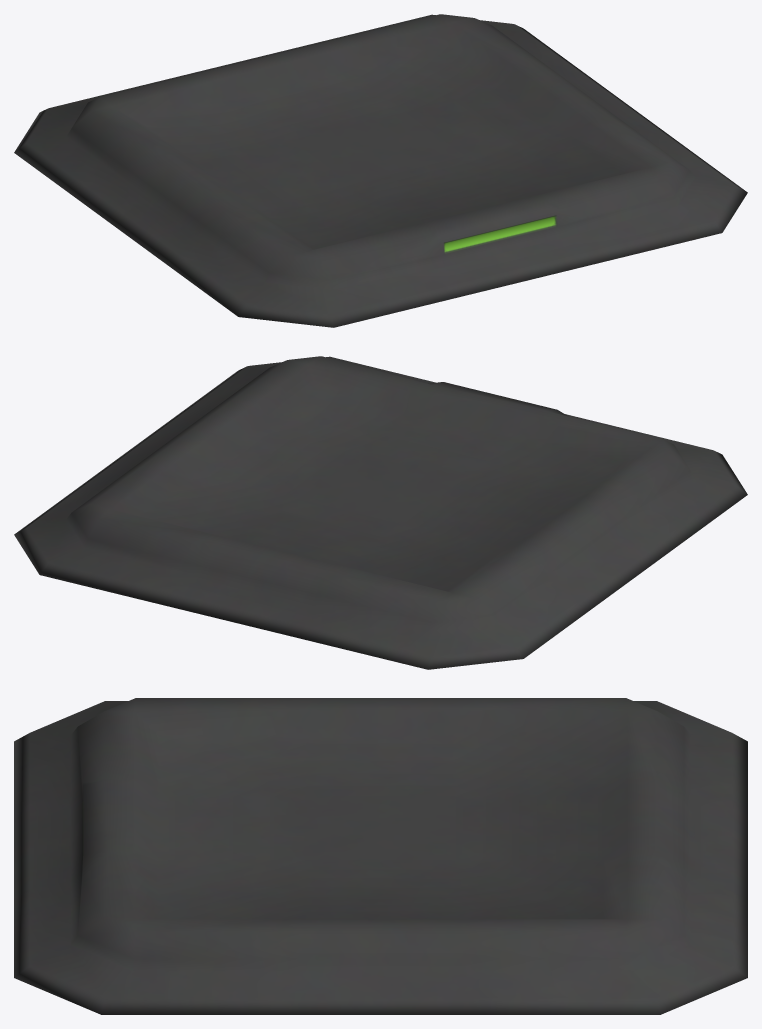
File: Button_active.gltf
3 renders of one model, top to bottom at view 1: azimuth 30°, elevation 25°; view 2: azimuth 150°, elevation 25°; view 3: azimuth 270°, elevation 25°, orthographic. The views are drawn at different scales.
Parts seen in each view (by area): view 1: Cube.006; view 2: Cube.006; view 3: Cube.006.
Part boxes in pixels (<box>): Cube.006: <box>14,14,747,327</box>; Cube.006: <box>14,356,747,669</box>; Cube.006: <box>14,698,747,1014</box>.
Size of the model in its own units: 2 by 0.1344 by 2.
1 material, 1 textured.
